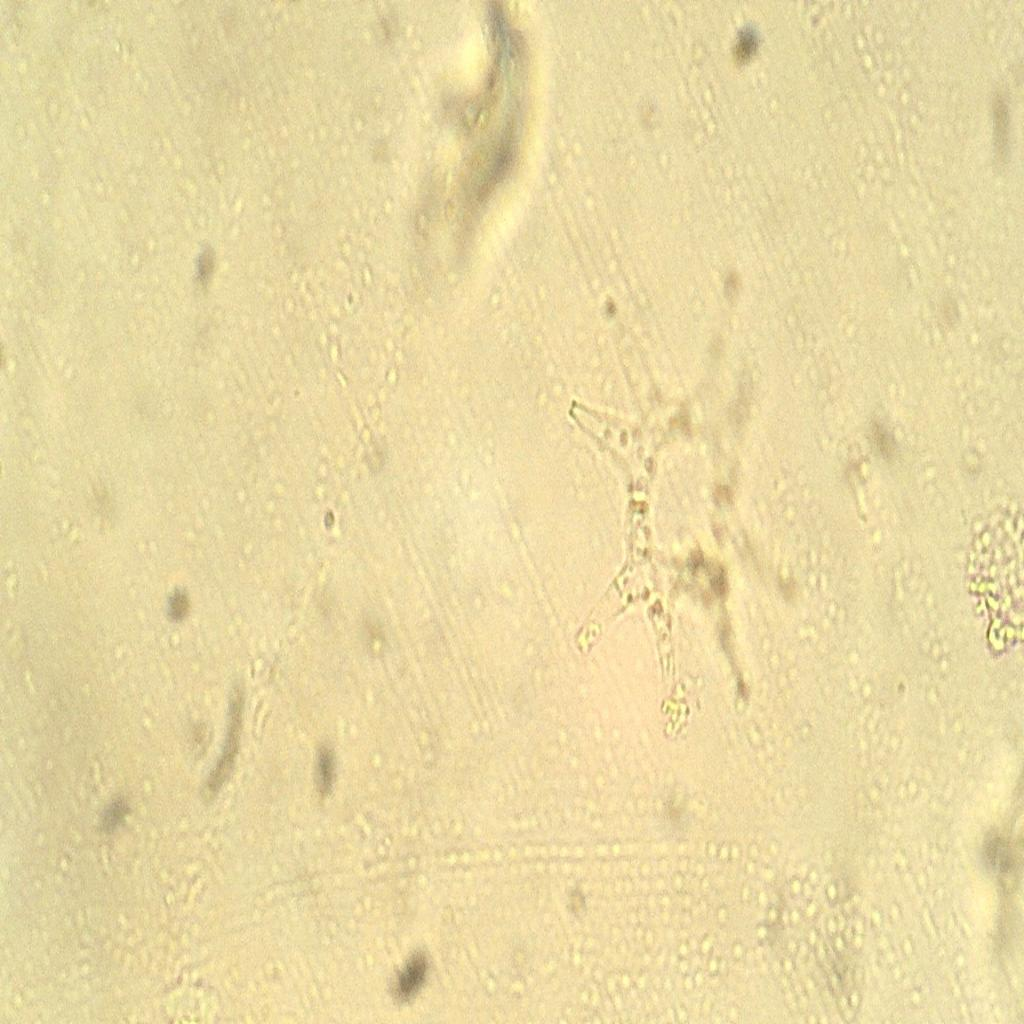Pediastrum_75TH: (550, 248, 826, 739)
